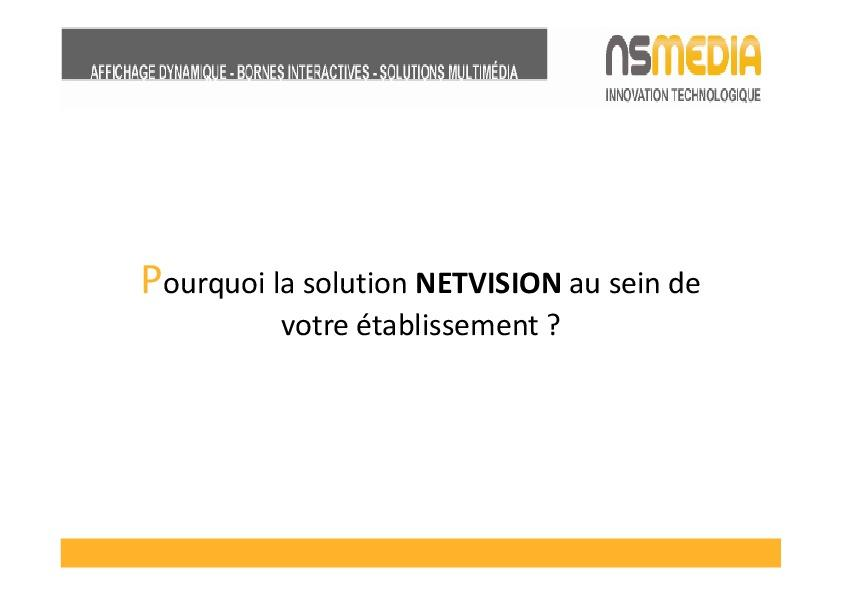subtitle: (121, 239, 727, 364)
title: (79, 27, 806, 115)
